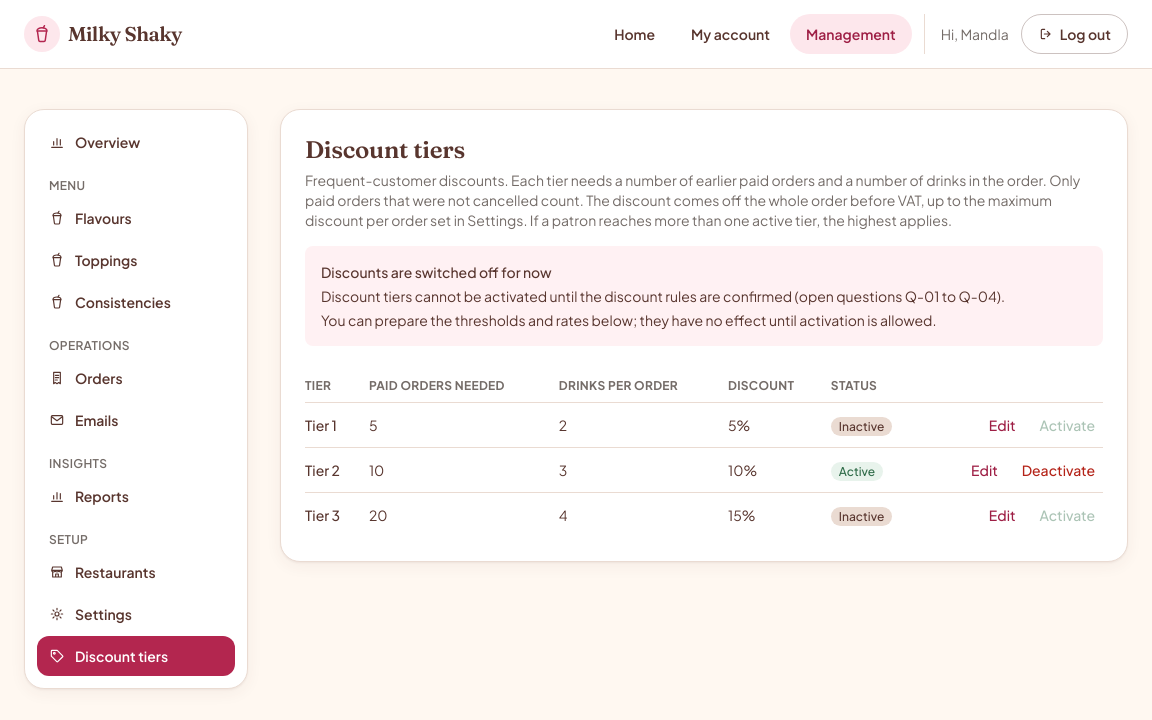
Test: discount tier management › deactivates an active tier, and cancelling the confirmation changes nothing
Click the button with aria-label "Deactivate tier 2". click: (1058, 470)
box: [1014,456,1103,484]
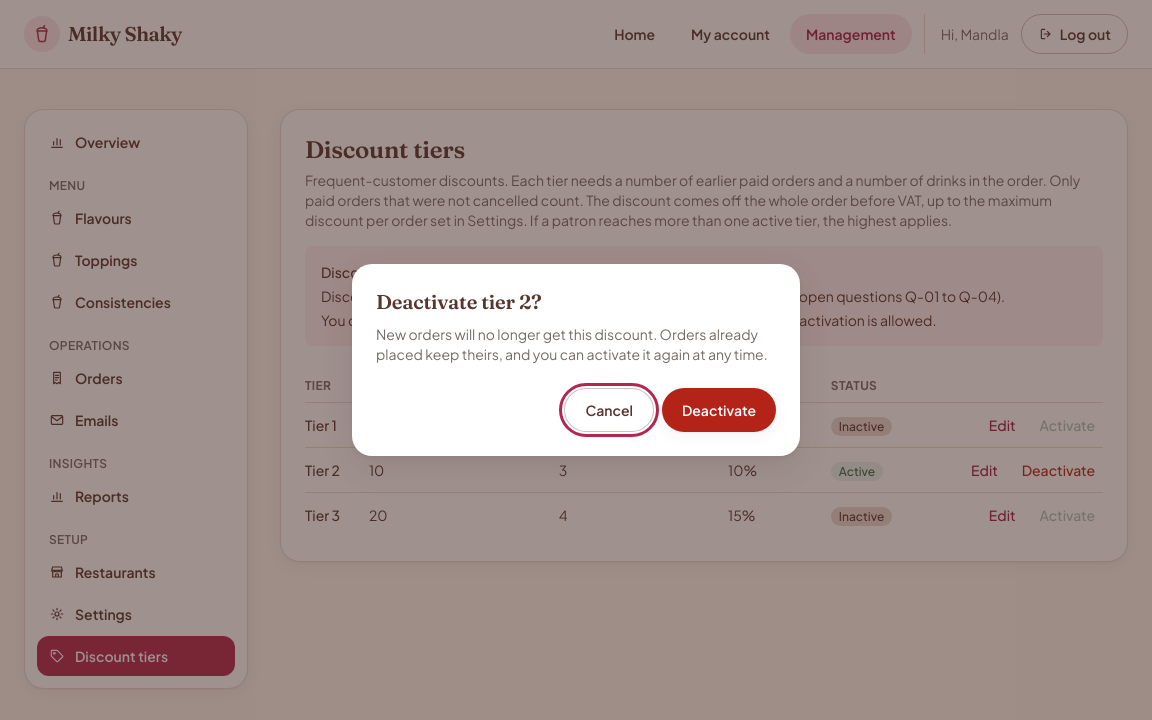
Click the button "Cancel". click: (609, 410)
box: [564,388,654,432]
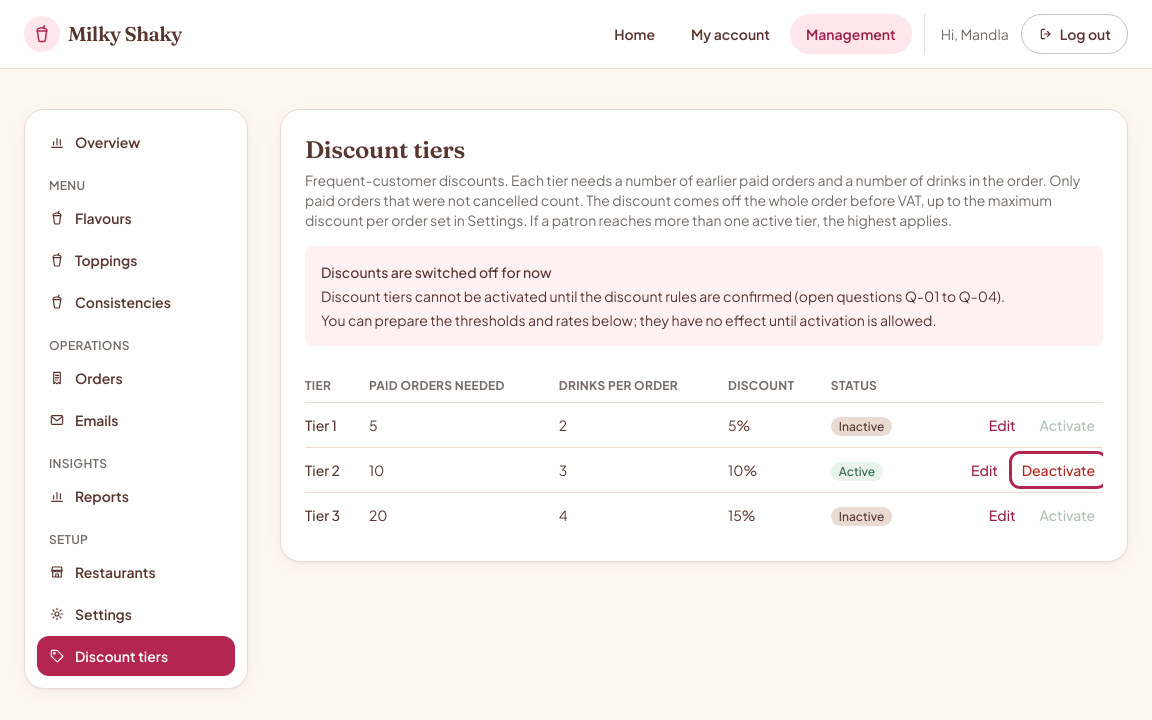
Click the button with aria-label "Deactivate tier 2". click: (1058, 470)
box: [1014,456,1103,484]
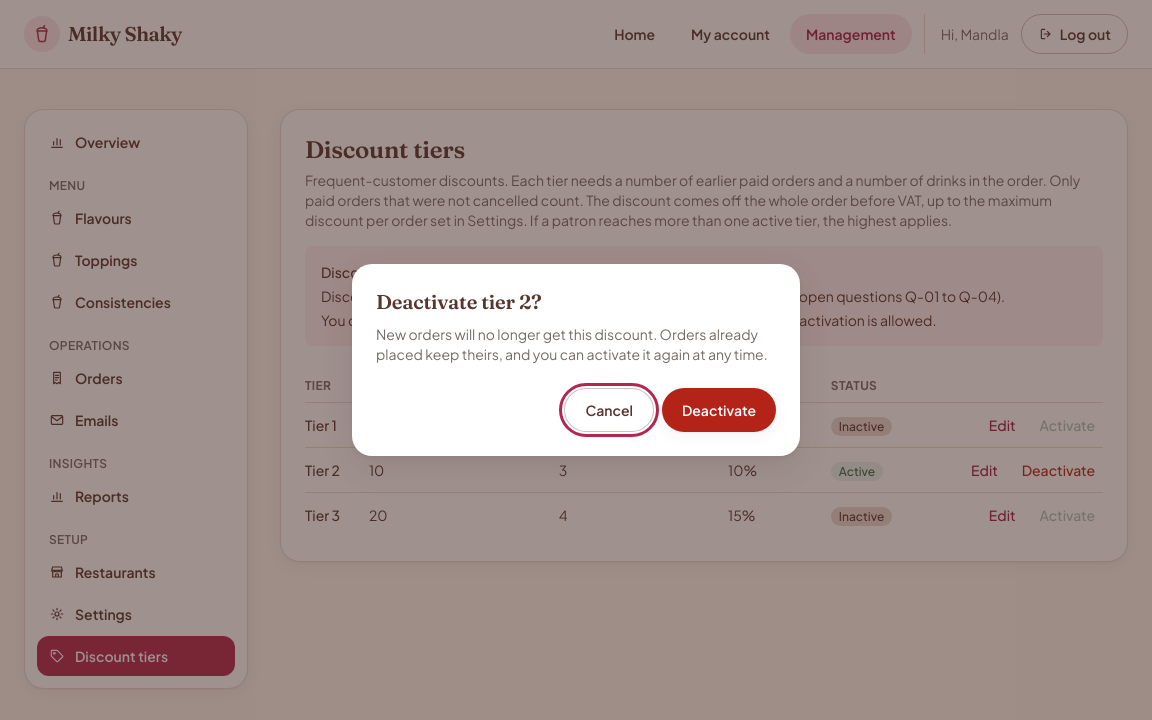
Click the button "Deactivate". click: (719, 410)
box: [662,388,776,432]
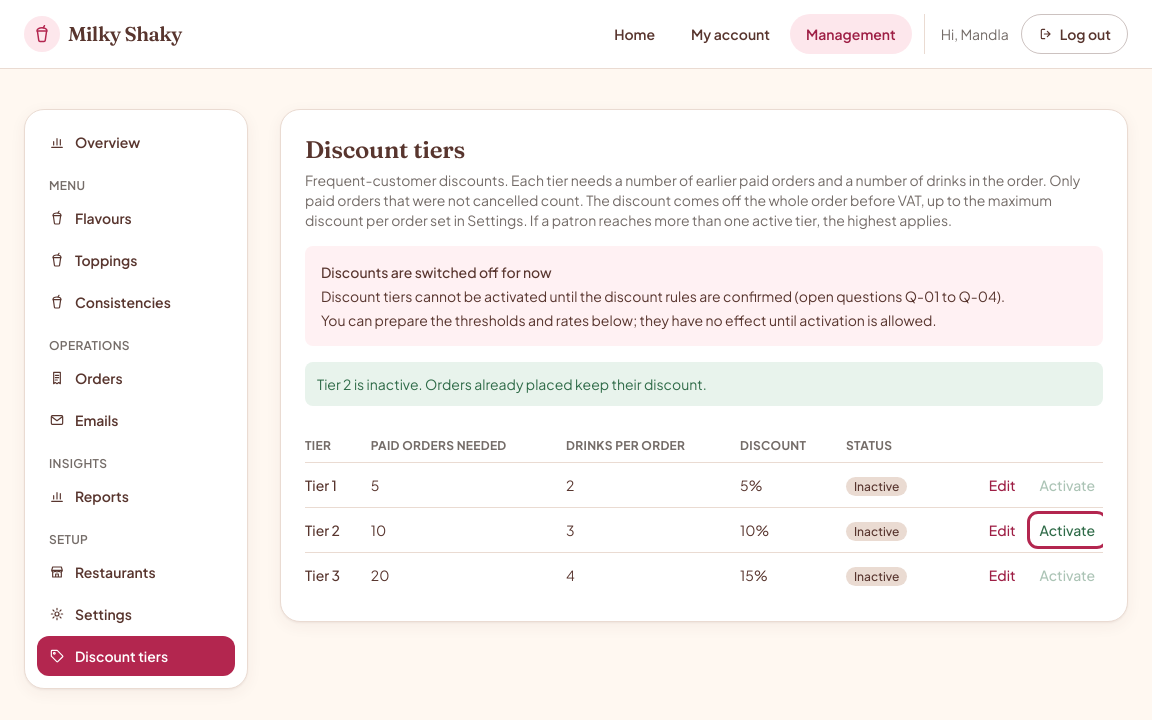
expect the text "Tier 2 is inactive. Orders already placed keep their discount." is shown: met, box [305,362,1103,406]
